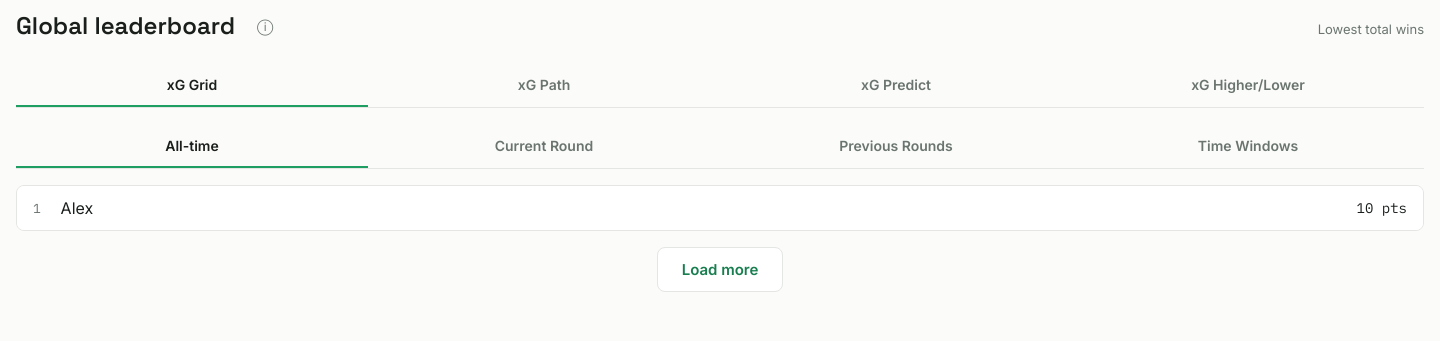
it: AllTimeLeaderboard › REQ-607: a failed "Load more" click shows an inline error without clearing the already-rendered rows, and the button becomes re-clickable
Check: the text "Alex" is shown, box [61, 198, 93, 218]
Step 1. Click the button "Load more" → {"x": 720, "y": 270}, box [657, 247, 783, 292]
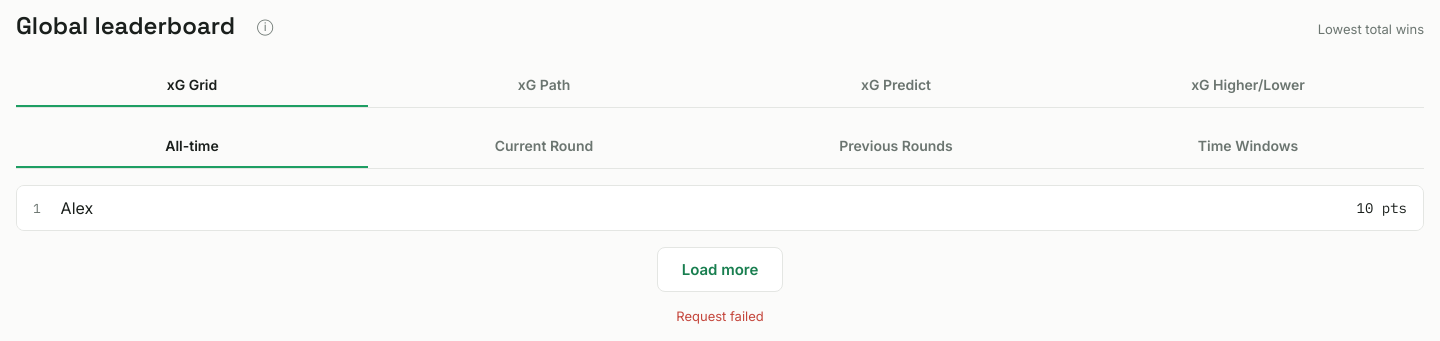
Check: the text "Alex" is shown, box [61, 198, 93, 218]
Check: the text "Request failed" is shown, box [676, 308, 764, 324]
Step 2. Click the button "Load more" → {"x": 720, "y": 270}, box [657, 247, 783, 292]
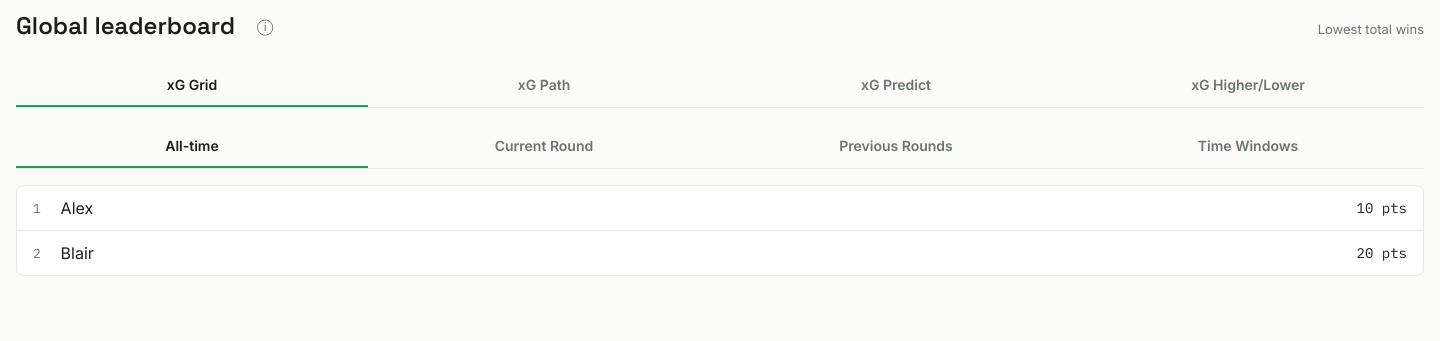
Check: the text "Blair" is shown, box [61, 243, 94, 263]
Check: the text with class "leaderboard-screen__load-more-error" is gone
